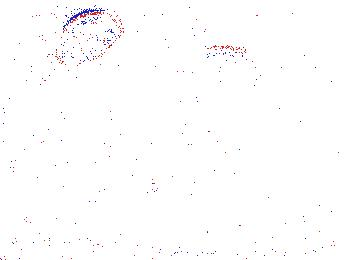moon jellyfish: (254, 101, 343, 185), (170, 46, 256, 119), (157, 1, 206, 88), (53, 10, 124, 66), (1, 94, 48, 163), (1, 1, 65, 46)
